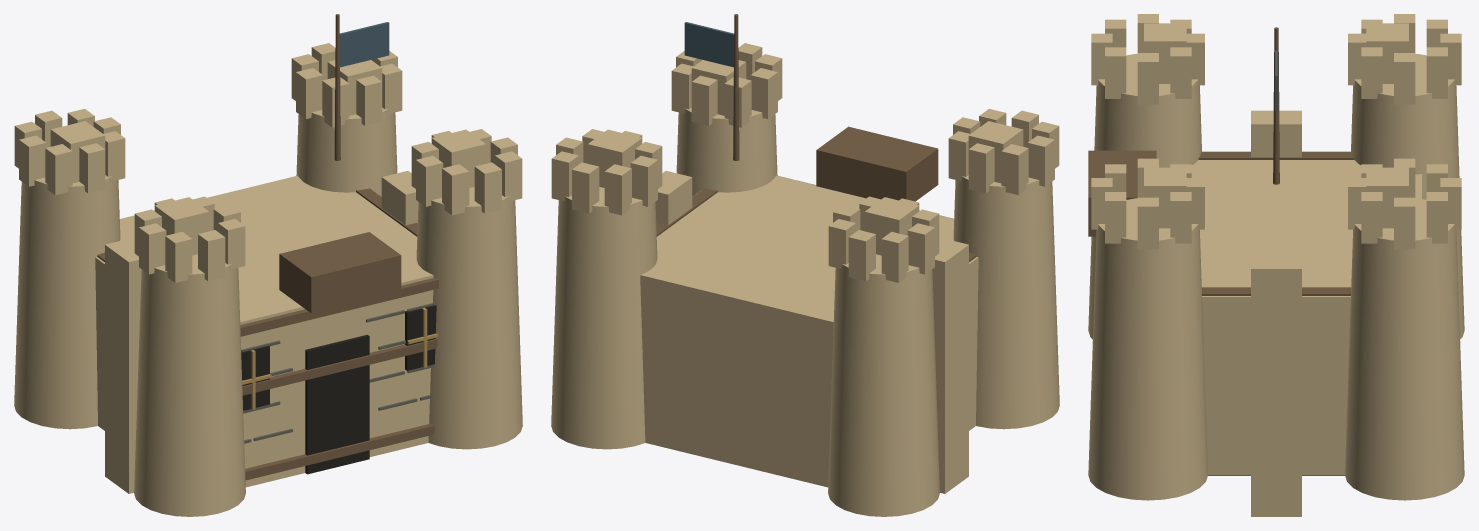
The model's file is b-tower-ayyubid.glb.
3 renders of one model, left to right at view 1: azimuth 30°, elevation 25°; view 2: azimuth 150°, elevation 25°; view 3: azimuth 270°, elevation 25°, orthographic. The views are drawn at different scales.
Parts seen in each view (by area): view 1: Structure, fortification3, fortification2; view 2: Structure, fortification3, fortification2; view 3: Structure, fortification3, fortification2.
Boxes of the visible parts, box(x1,y1,x2,y2) form: Structure: box(14, 14, 522, 516); fortification3: box(50, 60, 486, 493); fortification2: box(105, 193, 418, 459); Structure: box(551, 14, 1059, 516); fortification3: box(587, 60, 1023, 493); fortification2: box(655, 193, 968, 469); Structure: box(1088, 14, 1464, 500); fortification3: box(1088, 23, 1408, 516); fortification2: box(1251, 141, 1301, 499).
Size of the model in its own units: 5.4 by 5.75 by 4.4.
